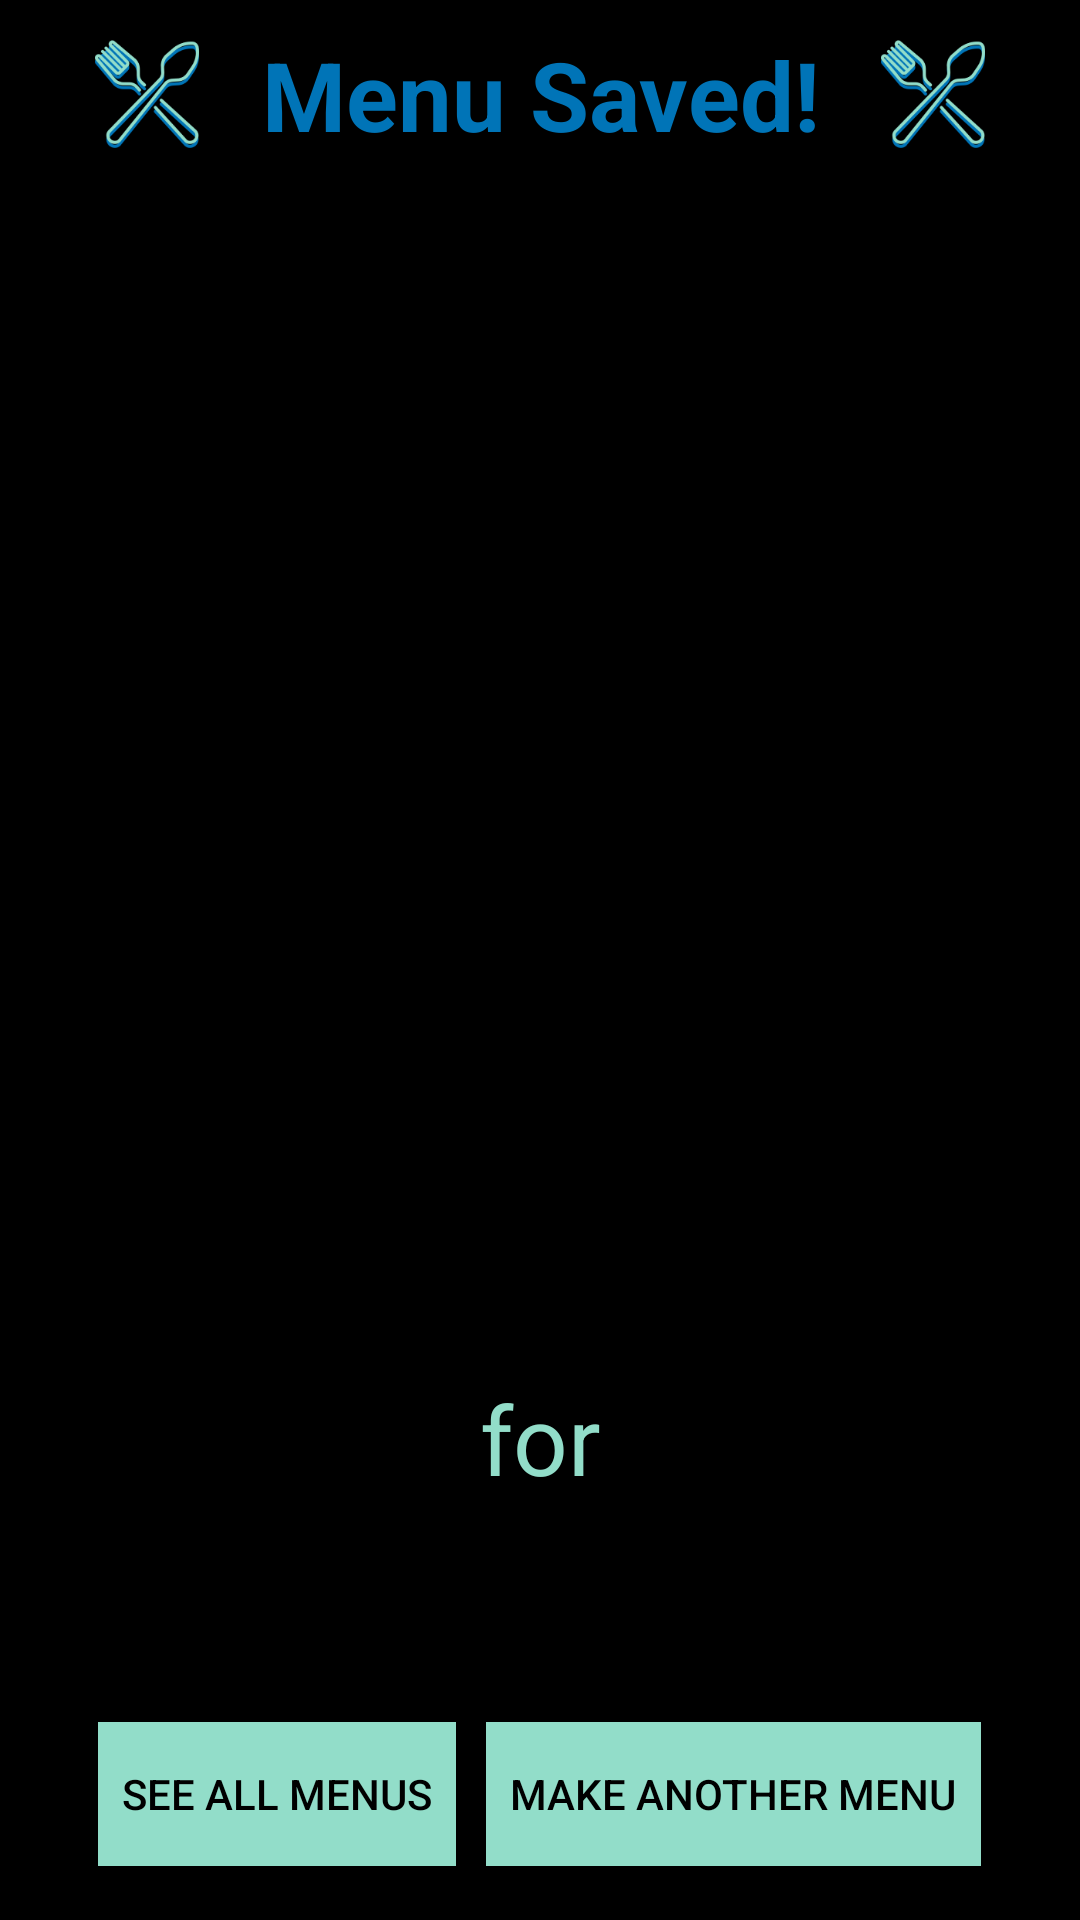

Where to tap for icons on this 1080 x 1920 app screen, as point (x, y):
spork: point (147, 94), point (933, 94)
